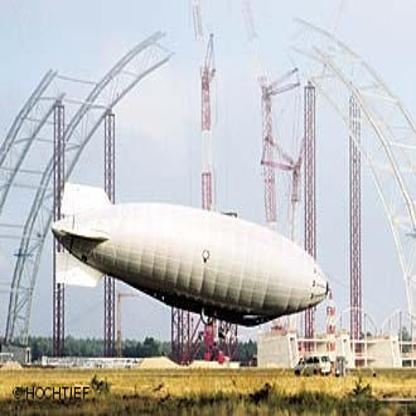Airship: (55, 181, 336, 327)
